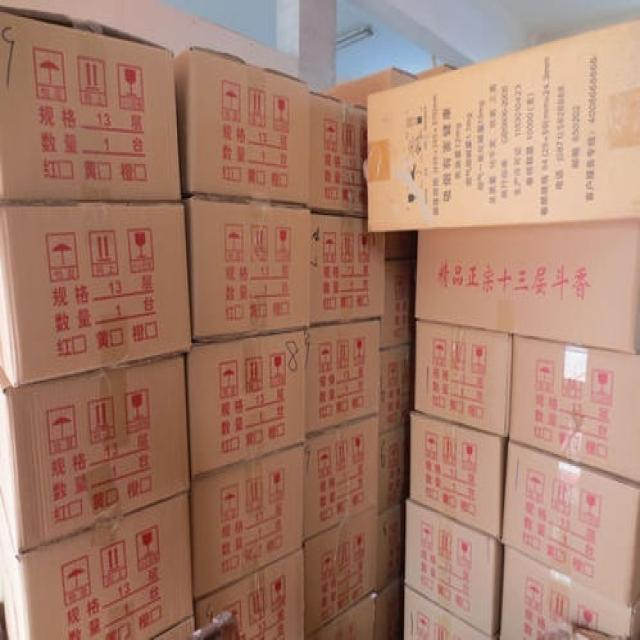box: (367, 19, 640, 232), (0, 353, 190, 556), (0, 5, 181, 203), (0, 203, 192, 389), (416, 220, 640, 353), (1, 492, 195, 640), (500, 439, 640, 606), (174, 44, 309, 207), (508, 333, 640, 483), (185, 195, 310, 343), (185, 329, 305, 483), (189, 447, 304, 601), (403, 498, 501, 638), (409, 410, 507, 543), (499, 548, 640, 638), (413, 321, 512, 439), (194, 546, 305, 640), (303, 413, 380, 544), (303, 509, 378, 638), (309, 213, 385, 328), (305, 321, 380, 437), (309, 90, 367, 217), (403, 582, 490, 638), (378, 341, 416, 435), (305, 592, 376, 640), (380, 259, 417, 350), (376, 503, 407, 597), (378, 423, 410, 512), (375, 577, 404, 640)
